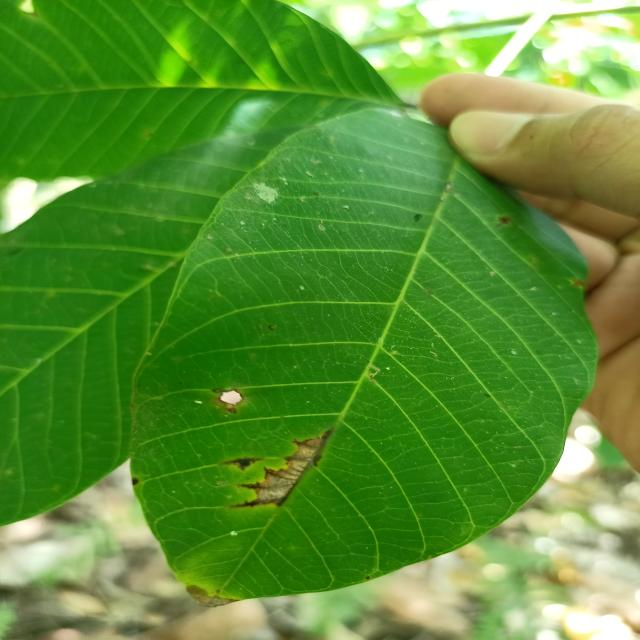Corynespora: (228, 428, 334, 508), (218, 456, 264, 472)
Leaf-Blight: (256, 438, 324, 502)
